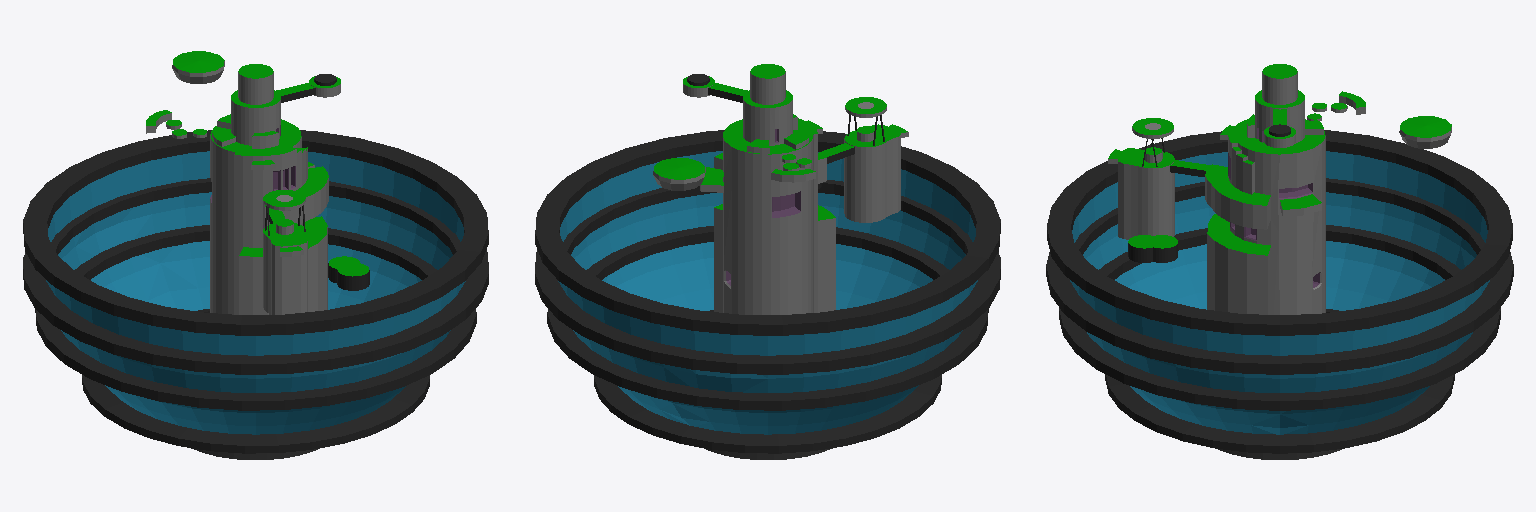
File: BuoyBowl.obj
3 renders of one model, left to right at view 1: azimuth 30°, elevation 25°; view 2: azimuth 150°, elevation 25°; view 3: azimuth 270°, elevation 25°, orthographic.
Visible parts, largest first — view 1: FloatyLandPlanet_Collision_Collision; view 2: FloatyLandPlanet_Collision_Collision; view 3: FloatyLandPlanet_Collision_Collision.
Boxes of the visible parts, x1,y1,x2,y2 form: FloatyLandPlanet_Collision_Collision: [23, 51, 488, 459]; FloatyLandPlanet_Collision_Collision: [535, 64, 1000, 459]; FloatyLandPlanet_Collision_Collision: [1046, 64, 1513, 459].
Size of the model in its own units: 13372 by 11661 by 13372.